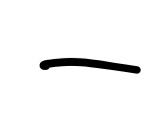minus: (41, 55, 140, 75)
